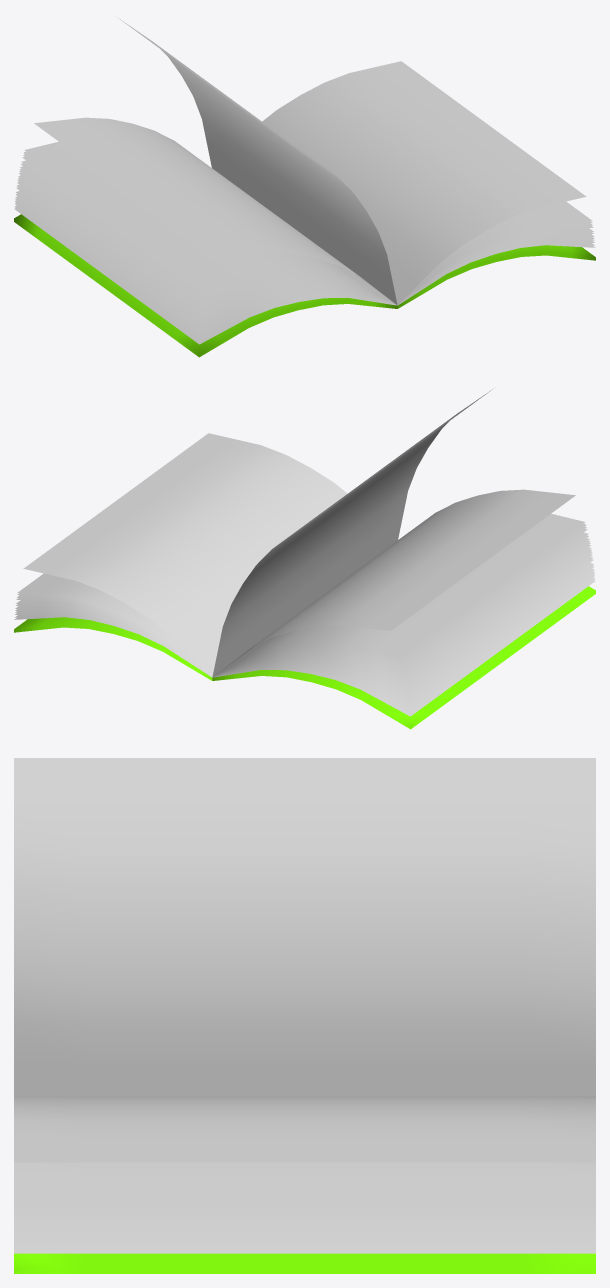
The model's file is Sans+titre.obj.
3 views of the same model, one above another, from view 1: azimuth 30°, elevation 25°; view 2: azimuth 150°, elevation 25°; view 3: azimuth 270°, elevation 25° (orthographic). The views are drawn at different scales.
Visible parts, largest first — view 1: Mesh40 Composant_1_39 Composant_7_1 Model, Mesh6 Composant_1_6 Composant_7_1 Model, Mesh41 Composant_1_40 Composant_7_1 Model, Mesh5 Composant_1_5 Composant_7_1 Model, Mesh42 Composant_6_2 Composant_7_1 Model, Mesh39 Composant_1_38 Composant_7_1 Model, Mesh27 Composant_6_1 Composant_7_1 Model, Mesh4 Composant_1_4 Composant_7_1 Model, Mesh22 Composant_1_22 Composant_7_1 Model, Mesh1 Composant_1_1 Composant_7_1 Model, Mesh18 Composant_1_18 Composant_7_1 Model, Mesh20 Composant_1_20 Composant_7_1 Model (+20 smaller); view 2: Mesh40 Composant_1_39 Composant_7_1 Model, Mesh6 Composant_1_6 Composant_7_1 Model, Mesh41 Composant_1_40 Composant_7_1 Model, Mesh5 Composant_1_5 Composant_7_1 Model, Mesh42 Composant_6_2 Composant_7_1 Model, Mesh39 Composant_1_38 Composant_7_1 Model, Mesh27 Composant_6_1 Composant_7_1 Model, Mesh4 Composant_1_4 Composant_7_1 Model, Mesh22 Composant_1_22 Composant_7_1 Model, Mesh1 Composant_1_1 Composant_7_1 Model, Mesh18 Composant_1_18 Composant_7_1 Model, Mesh20 Composant_1_20 Composant_7_1 Model (+20 smaller); view 3: Mesh41 Composant_1_40 Composant_7_1 Model, Mesh40 Composant_1_39 Composant_7_1 Model, Mesh39 Composant_1_38 Composant_7_1 Model, Mesh27 Composant_6_1 Composant_7_1 Model, Mesh38 Composant_1_37 Composant_7_1 Model, Mesh35 Composant_1_34 Composant_7_1 Model, Mesh36 Composant_1_35 Composant_7_1 Model, Mesh30 Composant_1_29 Composant_7_1 Model, Mesh34 Composant_1_33 Composant_7_1 Model, Mesh28 Composant_1_27 Composant_7_1 Model, Mesh29 Composant_1_28 Composant_7_1 Model, Mesh31 Composant_1_30 Composant_7_1 Model (+3 smaller).
Part boxes in pixels (<box>): Mesh40 Composant_1_39 Composant_7_1 Model: <box>262,61,586,305</box>; Mesh6 Composant_1_6 Composant_7_1 Model: <box>34,117,393,302</box>; Mesh41 Composant_1_40 Composant_7_1 Model: <box>117,17,397,305</box>; Mesh5 Composant_1_5 Composant_7_1 Model: <box>24,141,395,304</box>; Mesh42 Composant_6_2 Composant_7_1 Model: <box>14,214,397,357</box>; Mesh39 Composant_1_38 Composant_7_1 Model: <box>398,201,592,304</box>; Mesh27 Composant_6_1 Composant_7_1 Model: <box>397,245,595,308</box>; Mesh4 Composant_1_4 Composant_7_1 Model: <box>21,160,395,304</box>; Mesh22 Composant_1_22 Composant_7_1 Model: <box>16,190,390,327</box>; Mesh1 Composant_1_1 Composant_7_1 Model: <box>20,166,394,304</box>; Mesh18 Composant_1_18 Composant_7_1 Model: <box>18,175,388,311</box>; Mesh20 Composant_1_20 Composant_7_1 Model: <box>16,184,389,321</box>; Mesh40 Composant_1_39 Composant_7_1 Model: <box>23,433,347,677</box>; Mesh6 Composant_1_6 Composant_7_1 Model: <box>216,489,575,674</box>; Mesh41 Composant_1_40 Composant_7_1 Model: <box>212,389,492,677</box>; Mesh5 Composant_1_5 Composant_7_1 Model: <box>214,513,585,676</box>; Mesh42 Composant_6_2 Composant_7_1 Model: <box>212,586,595,729</box>; Mesh39 Composant_1_38 Composant_7_1 Model: <box>17,573,211,676</box>; Mesh27 Composant_6_1 Composant_7_1 Model: <box>14,617,212,680</box>; Mesh4 Composant_1_4 Composant_7_1 Model: <box>214,532,588,676</box>; Mesh22 Composant_1_22 Composant_7_1 Model: <box>219,562,593,699</box>; Mesh1 Composant_1_1 Composant_7_1 Model: <box>215,538,589,676</box>; Mesh18 Composant_1_18 Composant_7_1 Model: <box>221,547,591,683</box>; Mesh20 Composant_1_20 Composant_7_1 Model: <box>220,556,593,693</box>; Mesh41 Composant_1_40 Composant_7_1 Model: <box>14,758,595,1096</box>; Mesh40 Composant_1_39 Composant_7_1 Model: <box>14,1096,595,1162</box>; Mesh39 Composant_1_38 Composant_7_1 Model: <box>14,1162,595,1207</box>; Mesh27 Composant_6_1 Composant_7_1 Model: <box>14,1253,595,1273</box>; Mesh38 Composant_1_37 Composant_7_1 Model: <box>14,1219,595,1226</box>; Mesh35 Composant_1_34 Composant_7_1 Model: <box>14,1230,595,1235</box>; Mesh36 Composant_1_35 Composant_7_1 Model: <box>14,1211,595,1216</box>; Mesh30 Composant_1_29 Composant_7_1 Model: <box>14,1207,595,1211</box>; Mesh34 Composant_1_33 Composant_7_1 Model: <box>14,1245,595,1249</box>; Mesh28 Composant_1_27 Composant_7_1 Model: <box>14,1242,595,1245</box>; Mesh29 Composant_1_28 Composant_7_1 Model: <box>14,1227,595,1230</box>; Mesh31 Composant_1_30 Composant_7_1 Model: <box>14,1250,595,1253</box>.
Size of the model in its own units: 143 by 63.04 by 116.
